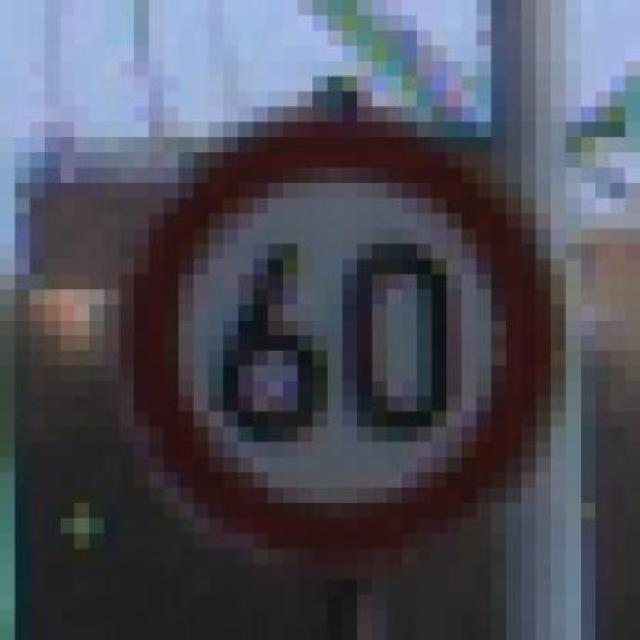forb_speed_over_60: (147, 127, 536, 544)
